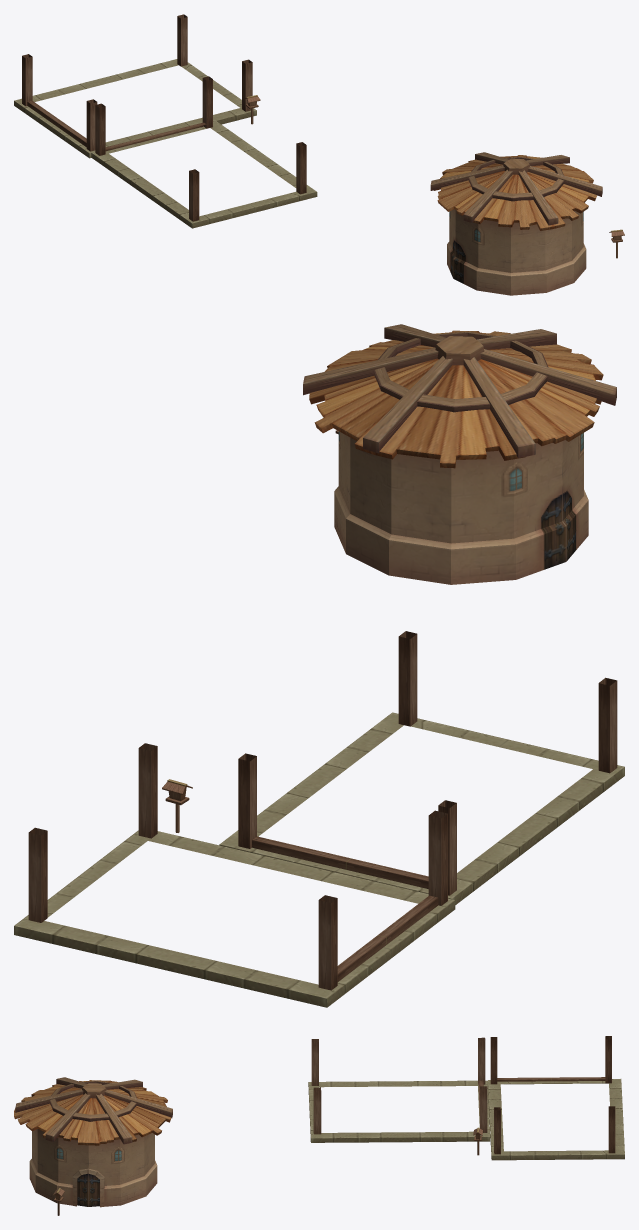
Rendered from Area_09_2.fbx.
3 renders of one model, top to bottom at view 1: azimuth 30°, elevation 25°; view 2: azimuth 150°, elevation 25°; view 3: azimuth 270°, elevation 25°, orthographic. The views are drawn at different scales.
Parts seen in each view (by area): view 1: Area_09_2; view 2: Area_09_2; view 3: Area_09_2.
Part boxes in pixels (x1,y1,x2,y2): Area_09_2: (14,14,624,295); Area_09_2: (14,324,624,1007); Area_09_2: (14,1036,624,1215).
Size of the model in its own units: 2564 by 826 by 4889.
